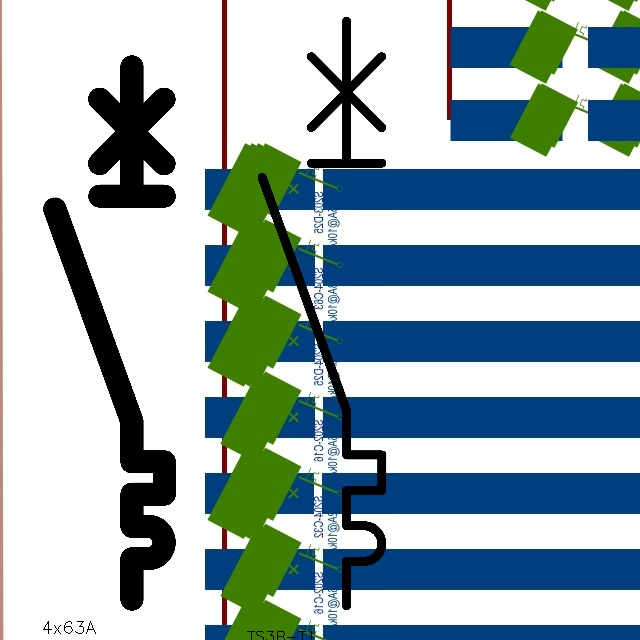interruptor_termomagnetico: (247, 6, 397, 621), (41, 53, 178, 613)
